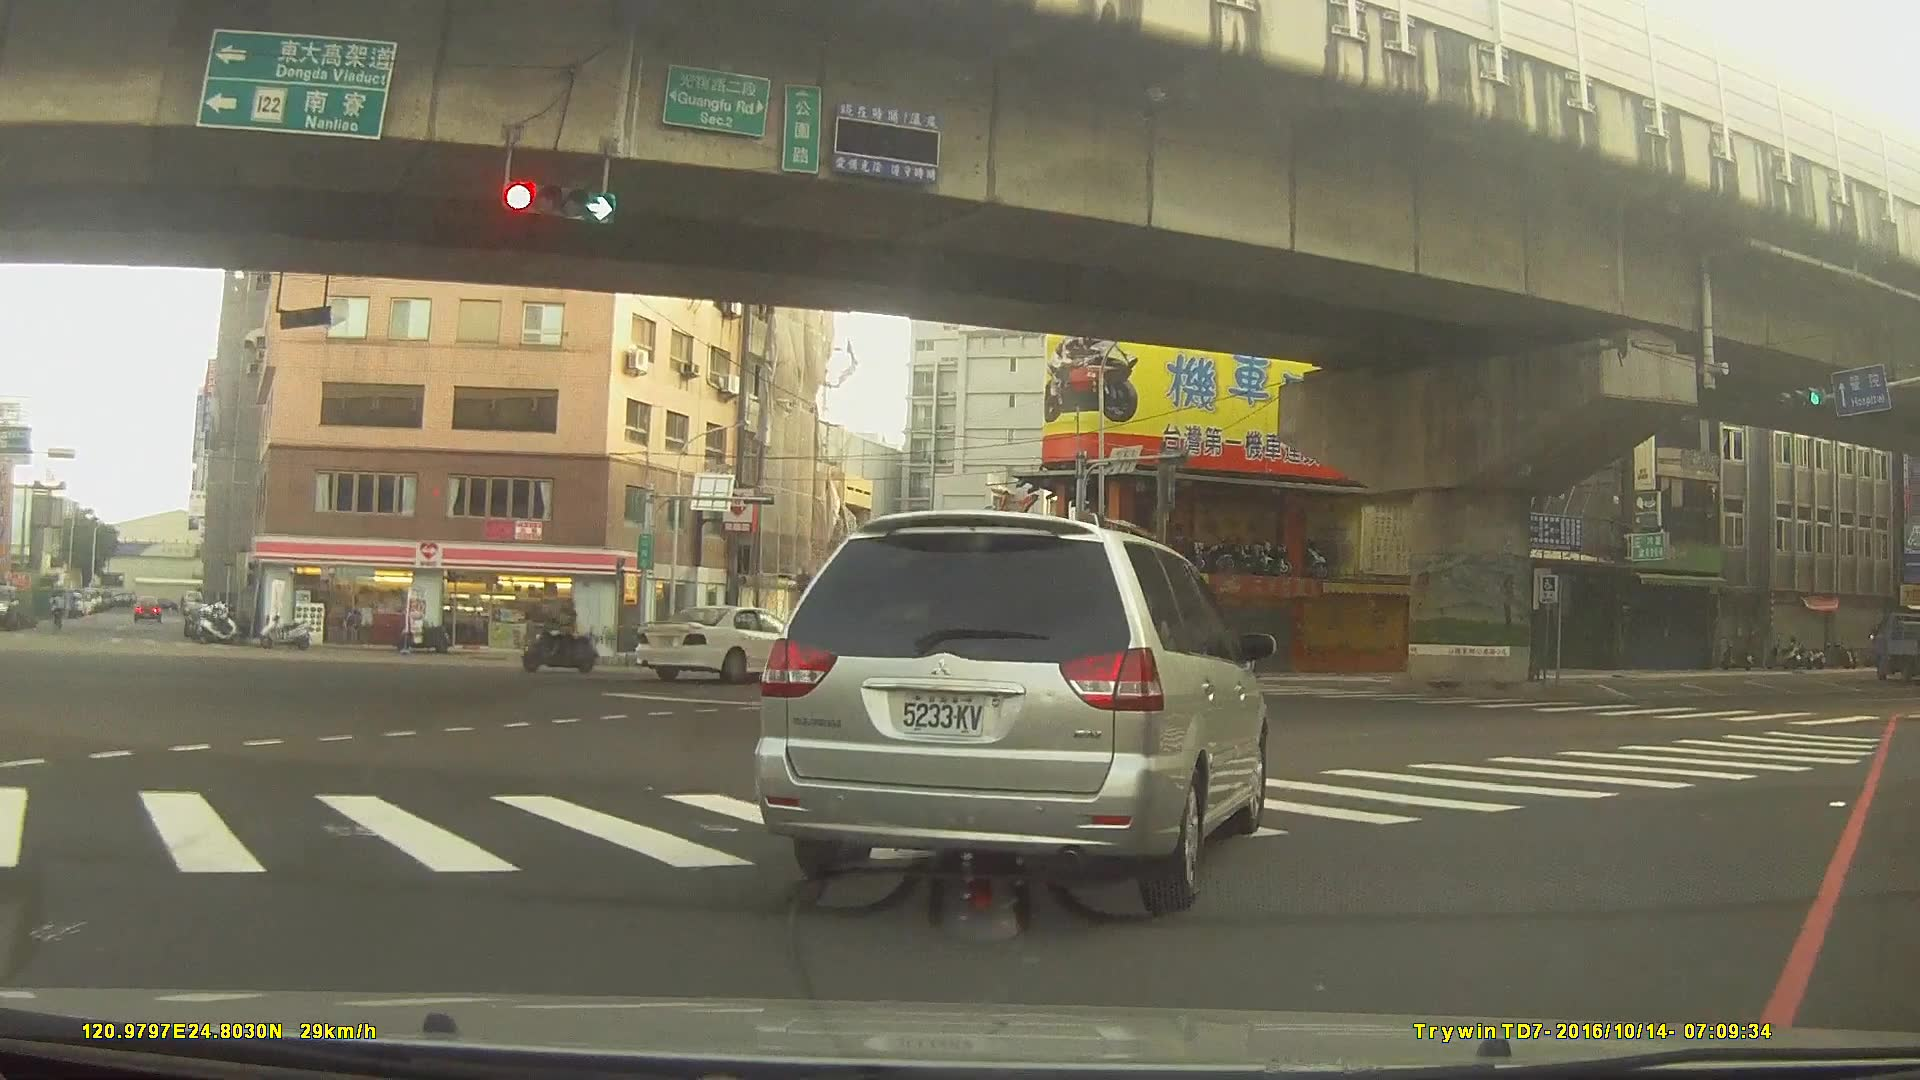rider: (523, 598, 596, 674)
vehicle: (750, 507, 1268, 915), (637, 602, 817, 679), (1869, 612, 1920, 679), (815, 634, 888, 675), (130, 596, 161, 624)
